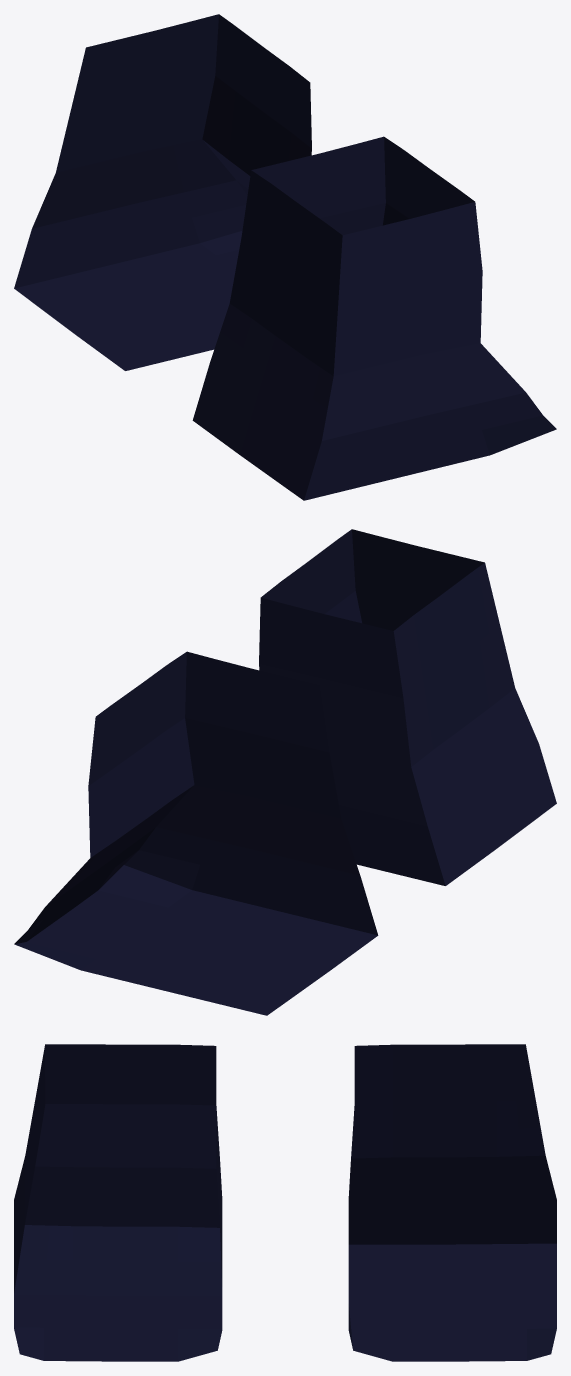
The model's file is blueshoes.glb.
The picture shows the model from 3 angles, top to bottom: view 1: azimuth 30°, elevation 25°; view 2: azimuth 150°, elevation 25°; view 3: azimuth 270°, elevation 25°; orthographic projection. The views are drawn at different scales.
Visible parts, largest first — view 1: Cube.027; view 2: Cube.027; view 3: Cube.027.
Part boxes in pixels (left/top/right/bottom): Cube.027: left=14, top=14, right=556, bottom=500; Cube.027: left=14, top=529, right=556, bottom=1015; Cube.027: left=14, top=1044, right=556, bottom=1361.
Bounding box in the file's own units: 1.4 × 1.27 × 2.75.
